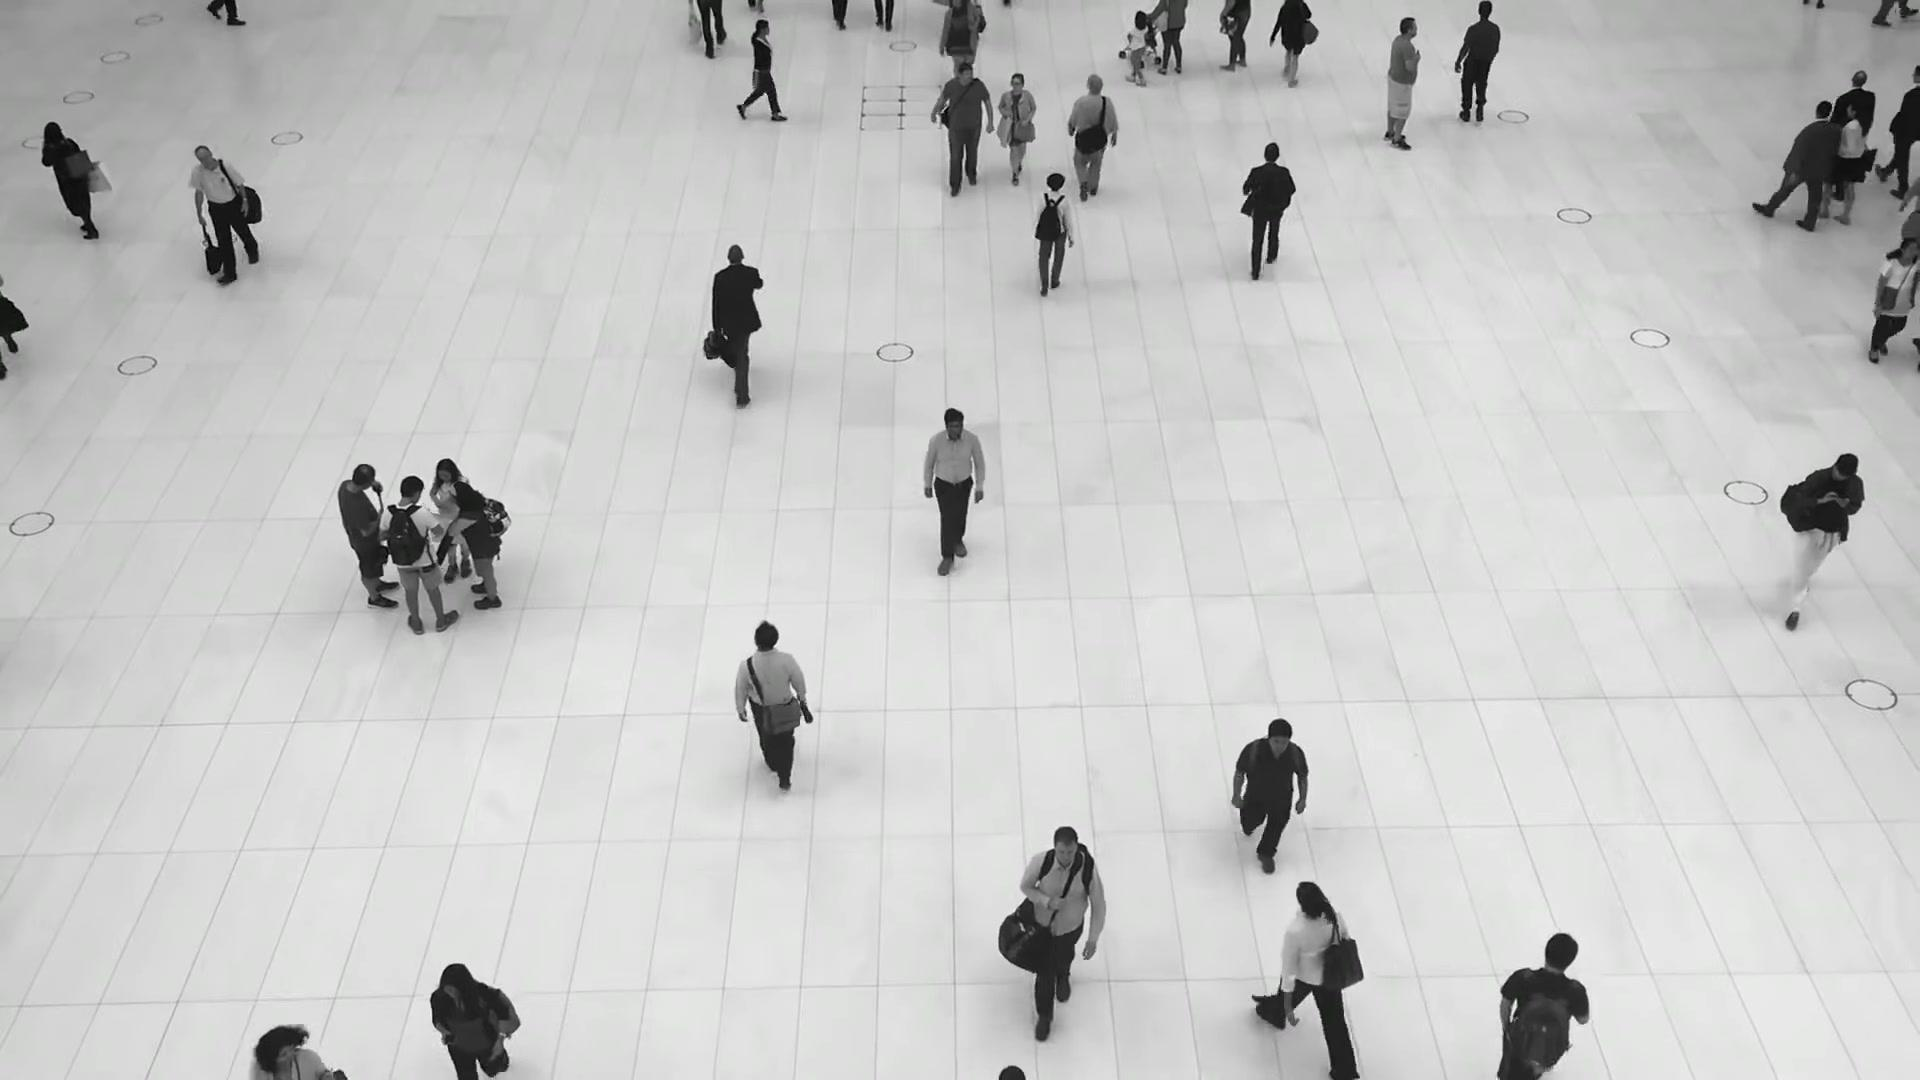person: (1252, 879, 1362, 1077), (1019, 826, 1107, 1046), (1781, 452, 1864, 628), (1494, 931, 1590, 1080), (378, 475, 460, 635), (1227, 716, 1309, 869), (733, 621, 808, 786), (919, 407, 987, 580), (1753, 102, 1840, 235), (189, 144, 259, 285), (428, 960, 510, 1079), (336, 464, 400, 608), (711, 243, 764, 406), (930, 62, 993, 198), (1803, 102, 1867, 227), (1241, 143, 1297, 284), (39, 118, 100, 240), (1066, 73, 1120, 200), (449, 481, 501, 610), (1865, 237, 1919, 363), (1875, 64, 1920, 200), (1453, 1, 1502, 125), (1030, 172, 1075, 294), (427, 457, 470, 580), (1383, 15, 1421, 149), (738, 16, 784, 122), (996, 72, 1036, 185), (935, 0, 985, 79), (1268, 0, 1311, 90), (1126, 11, 1148, 87)
